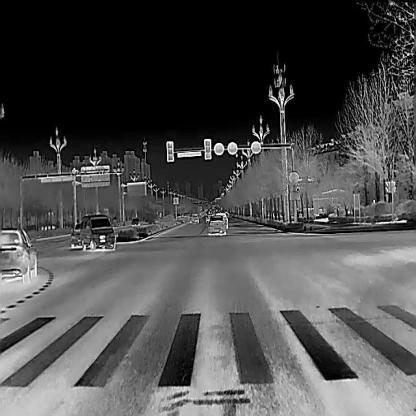car: (0, 225, 38, 283), (78, 213, 116, 249), (207, 214, 226, 235), (69, 222, 82, 248), (188, 212, 199, 224), (130, 217, 141, 226)
